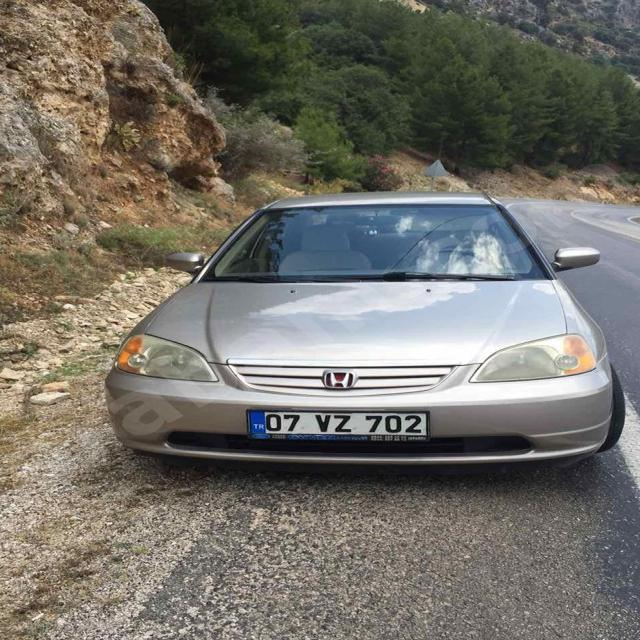license_plate: (247, 411, 428, 436)
